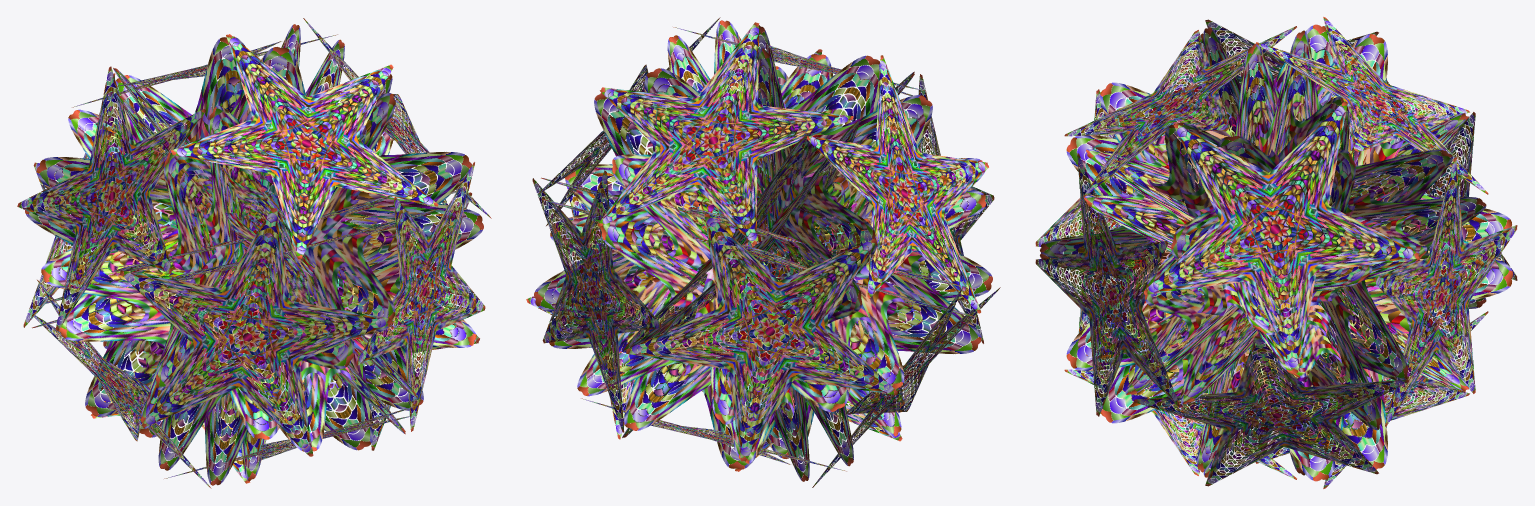
Rendered from 11InvertedSnubDodecadodecahedron.gltf.
The picture shows the model from 3 angles, left to right: view 1: azimuth 30°, elevation 25°; view 2: azimuth 150°, elevation 25°; view 3: azimuth 270°, elevation 25°; orthographic projection.
Visible parts, largest first — view 1: 7InvertedSnubDodecadodecahedron; view 2: 7InvertedSnubDodecadodecahedron; view 3: 7InvertedSnubDodecadodecahedron.
Boxes of the visible parts, box(x1,y1,x2,y2) form: 7InvertedSnubDodecadodecahedron: box(17, 18, 491, 488); 7InvertedSnubDodecadodecahedron: box(526, 17, 1000, 487); 7InvertedSnubDodecadodecahedron: box(1035, 17, 1517, 488).
Size of the model in its own units: 1.69 by 1.69 by 1.69.
1 material, 1 textured.
